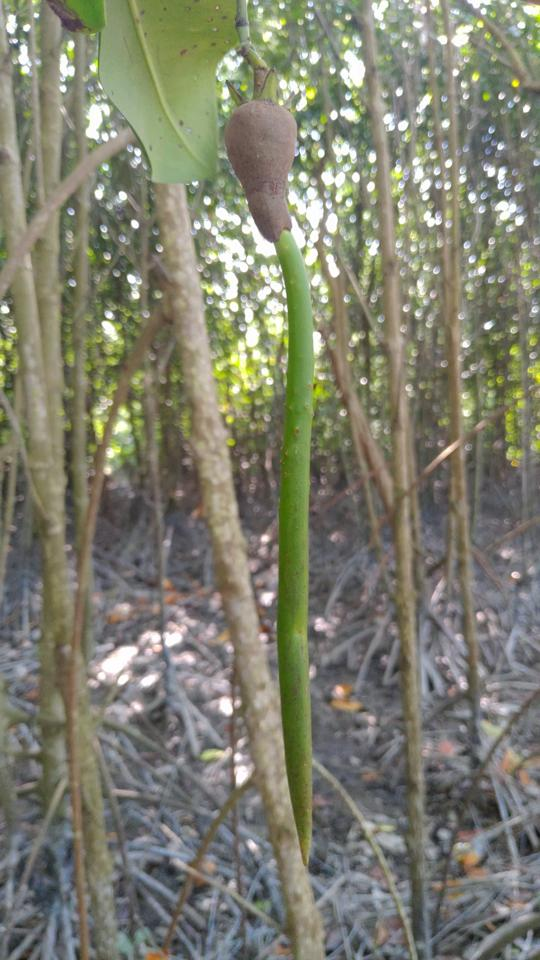mentah: (204, 69, 339, 874)
